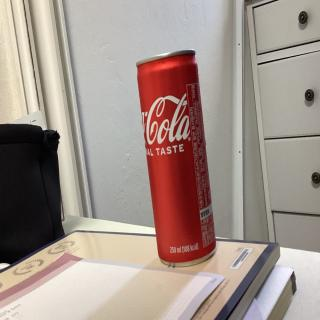cocacola: (132, 45, 226, 269)
